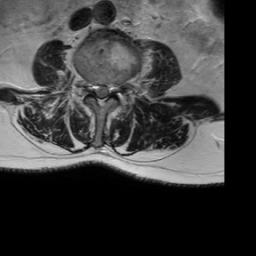CCS_normal: (98, 77, 105, 109)
LFS_normal: (112, 76, 121, 101)
LLS_stenosis: (105, 78, 113, 104)
RFS_normal: (83, 72, 91, 101)
RLS_stenosis: (91, 74, 98, 105)
